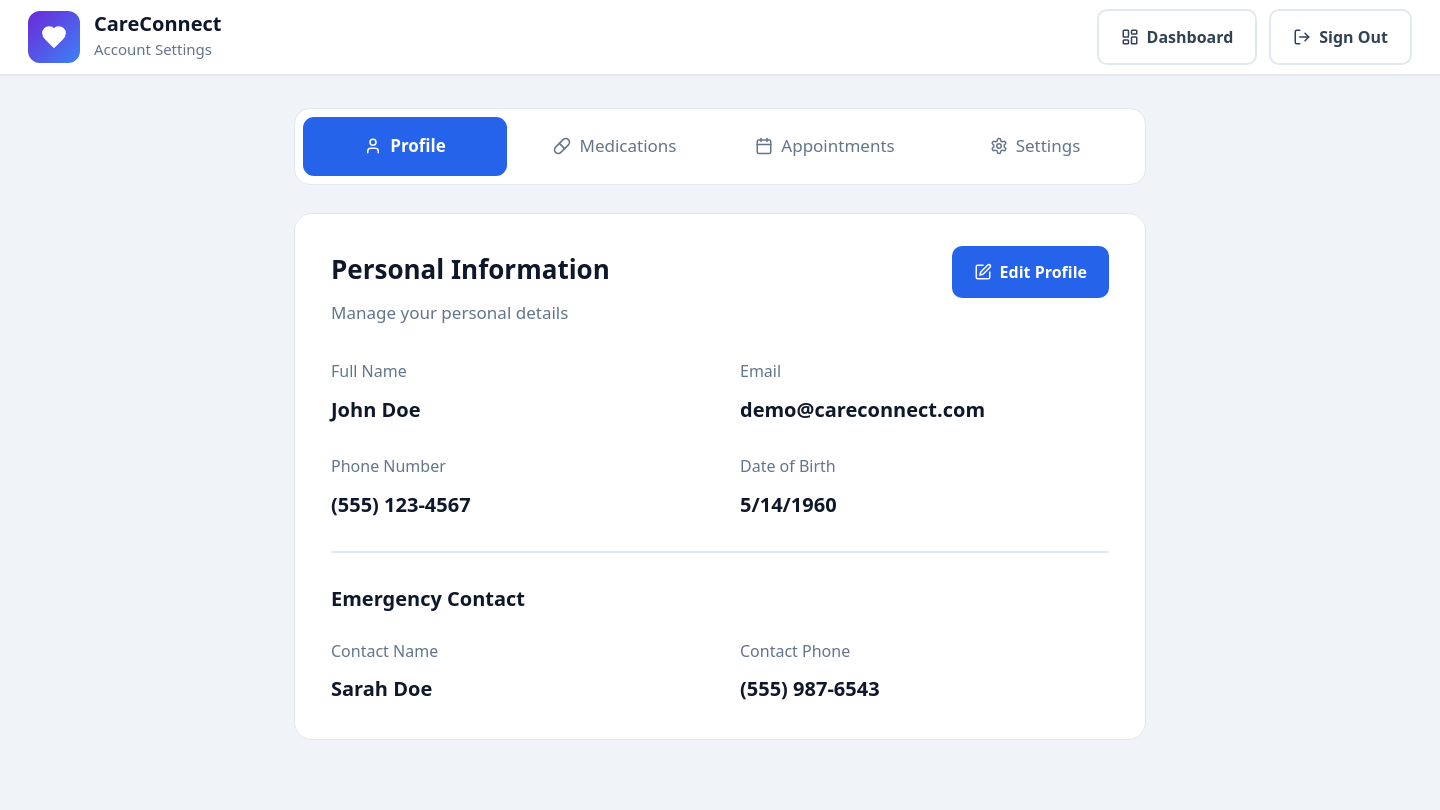
Test: AccountSettingsPage › switches to settings tab
The width and height of the screenshot is (1440, 810).
Step 1. Click the button "Settings" → [1035, 146], box [933, 117, 1137, 176]
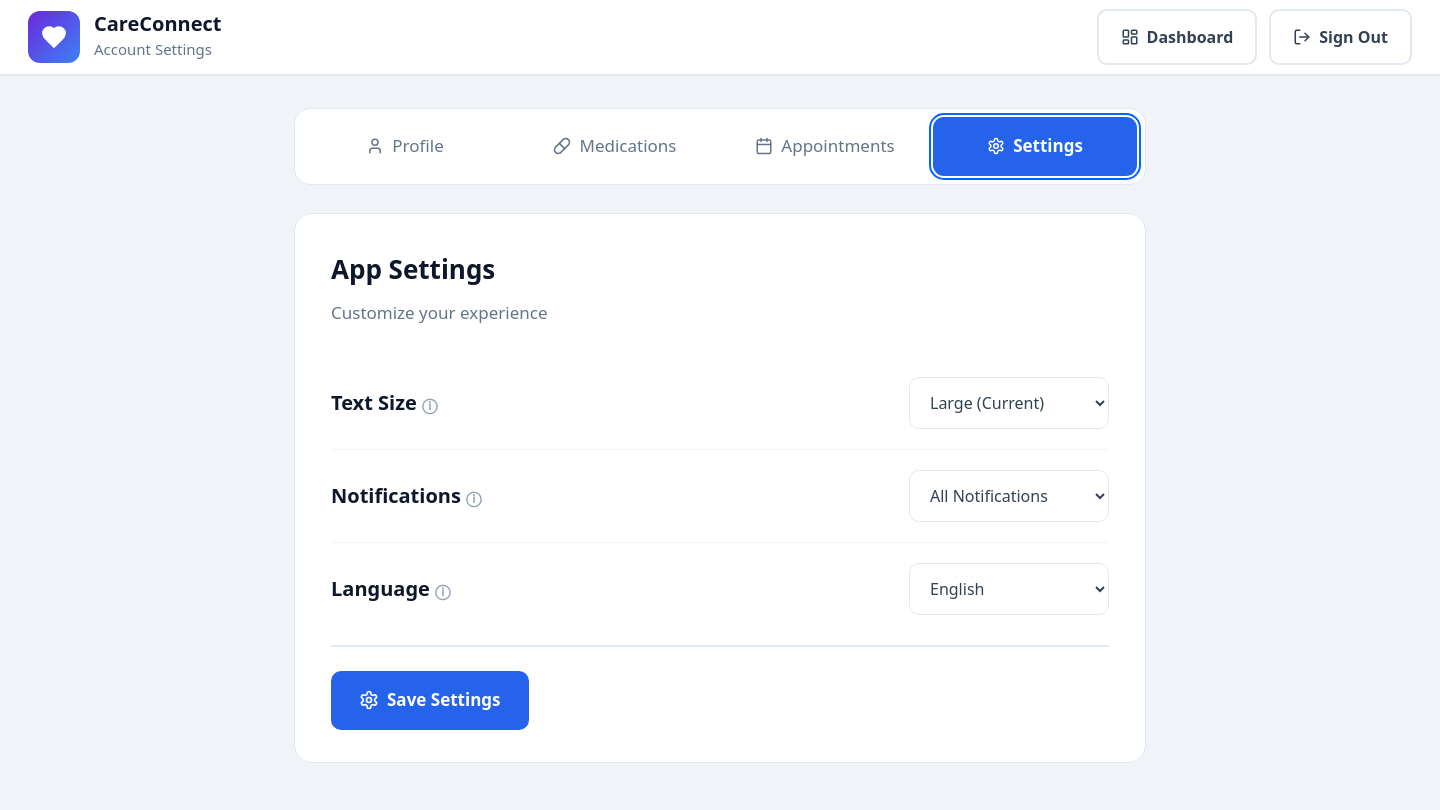
Result: the heading "App Settings" is shown at [331, 251, 495, 287]
Result: the text "Text Size ⓘ" is shown at [331, 385, 437, 421]
Result: the text "Notifications ⓘ" is shown at [331, 478, 481, 514]
